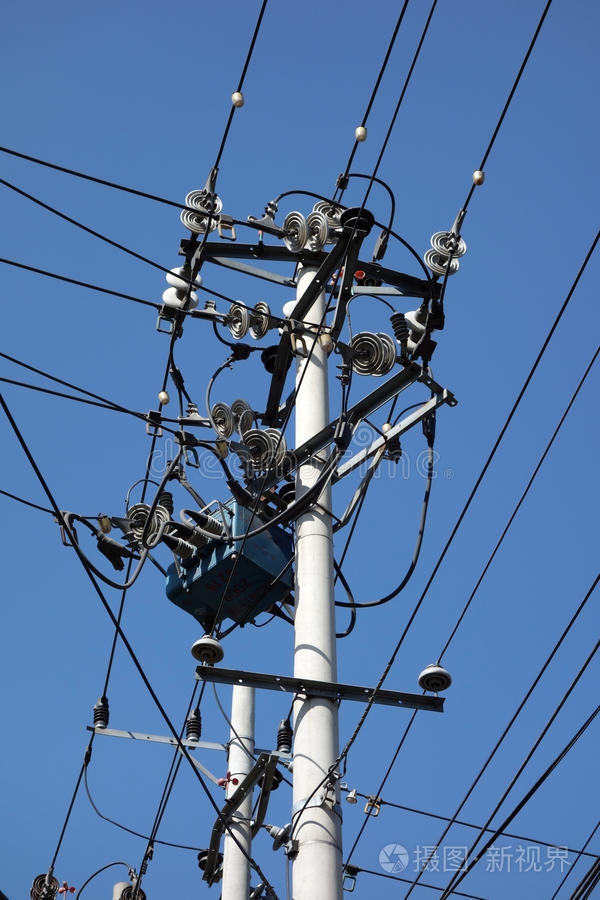insulator: (422, 229, 471, 276), (346, 329, 397, 374), (236, 428, 290, 470), (179, 189, 225, 238), (222, 299, 271, 345), (274, 211, 328, 250), (208, 398, 252, 444), (123, 501, 168, 539), (315, 197, 352, 231)
